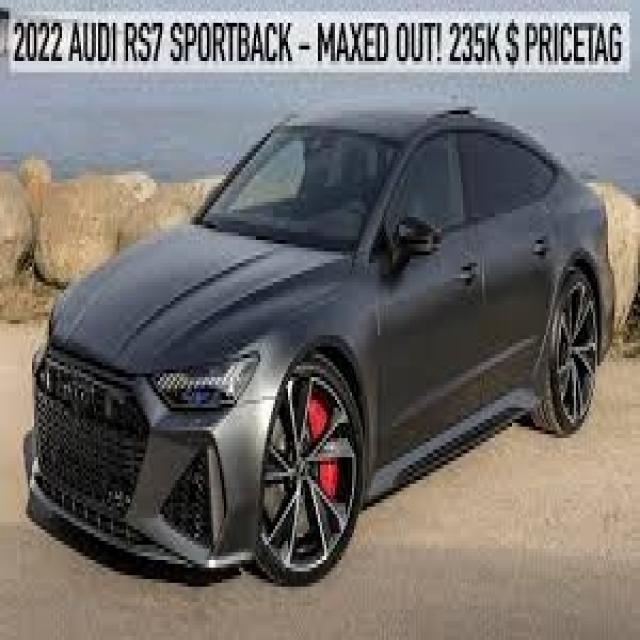black: (26, 110, 617, 558)
